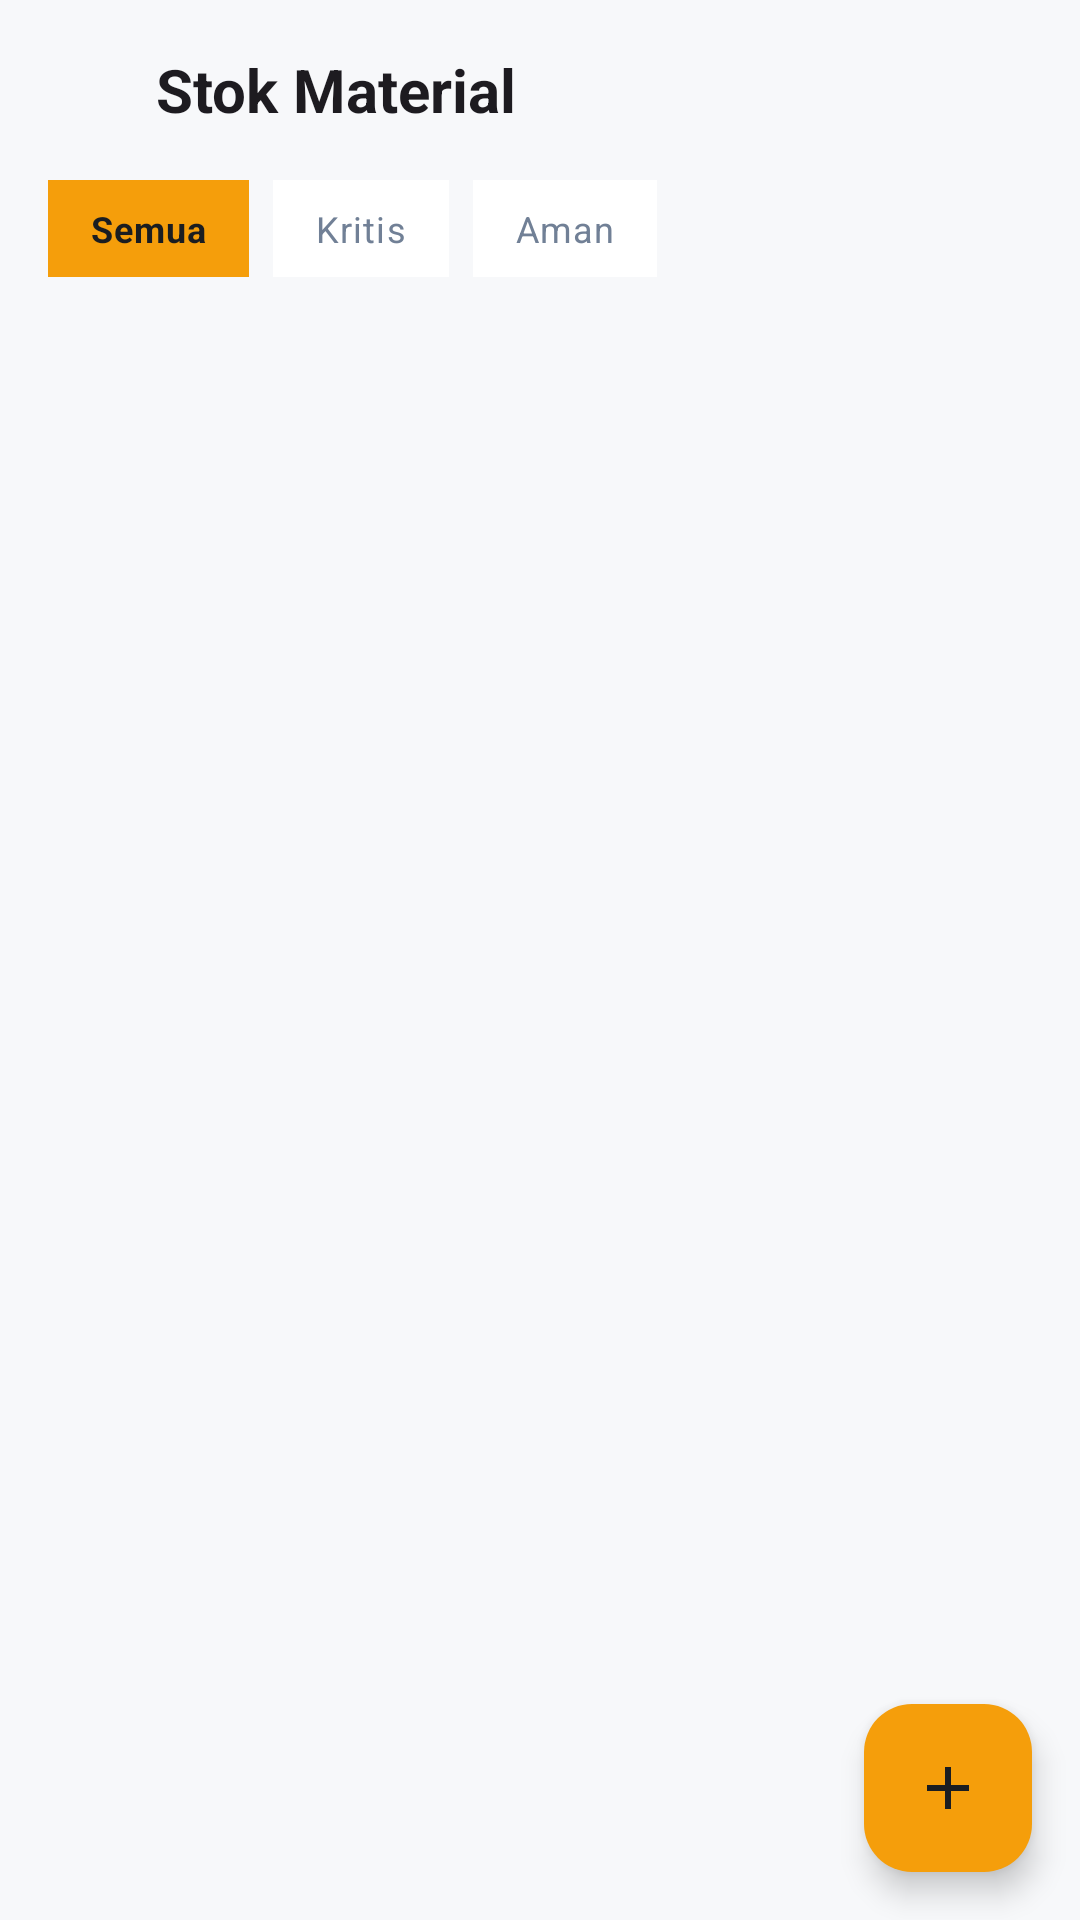

Screen size 1080*1920. Icon name, then its center in pixels as (x,y):
Catat Mutasi: (948,1788)
